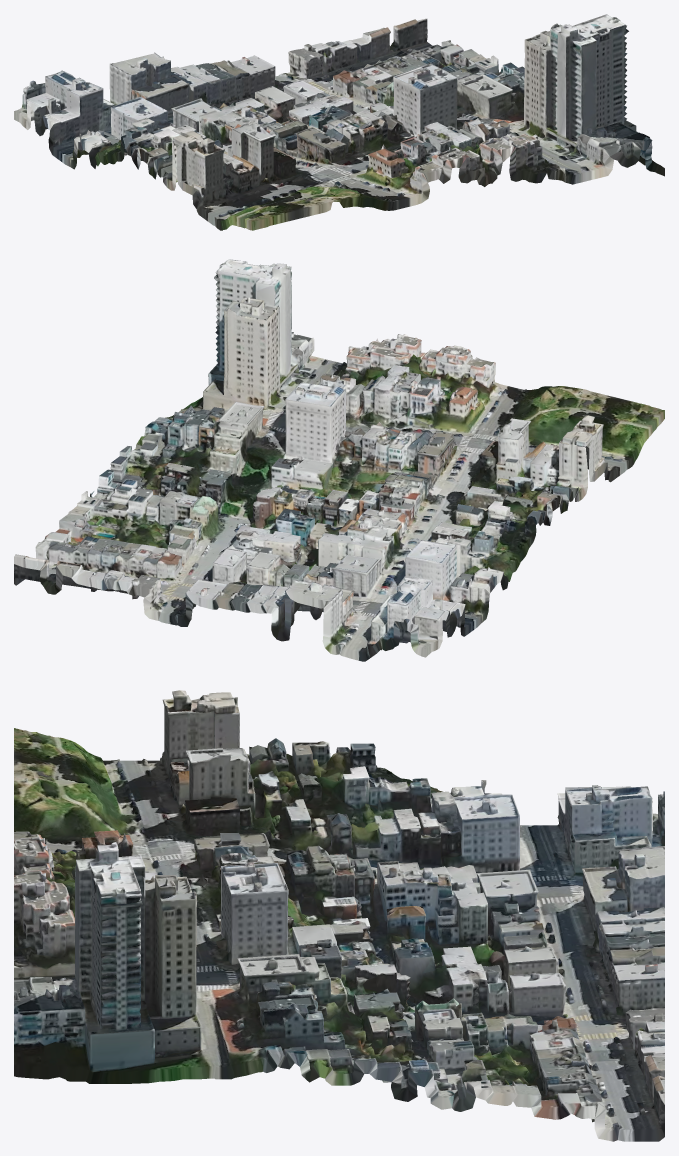
Rendered from z17-20963-50649-h0-yup-uvflip-v3-world.glb.
The picture shows the model from 3 angles, top to bottom: view 1: azimuth 30°, elevation 25°; view 2: azimuth 150°, elevation 25°; view 3: azimuth 270°, elevation 25°; orthographic projection. The views are drawn at different scales.
Bounding box in the file's own units: 241 × 105 × 243.
Materials: 1 (1 with a texture image).
